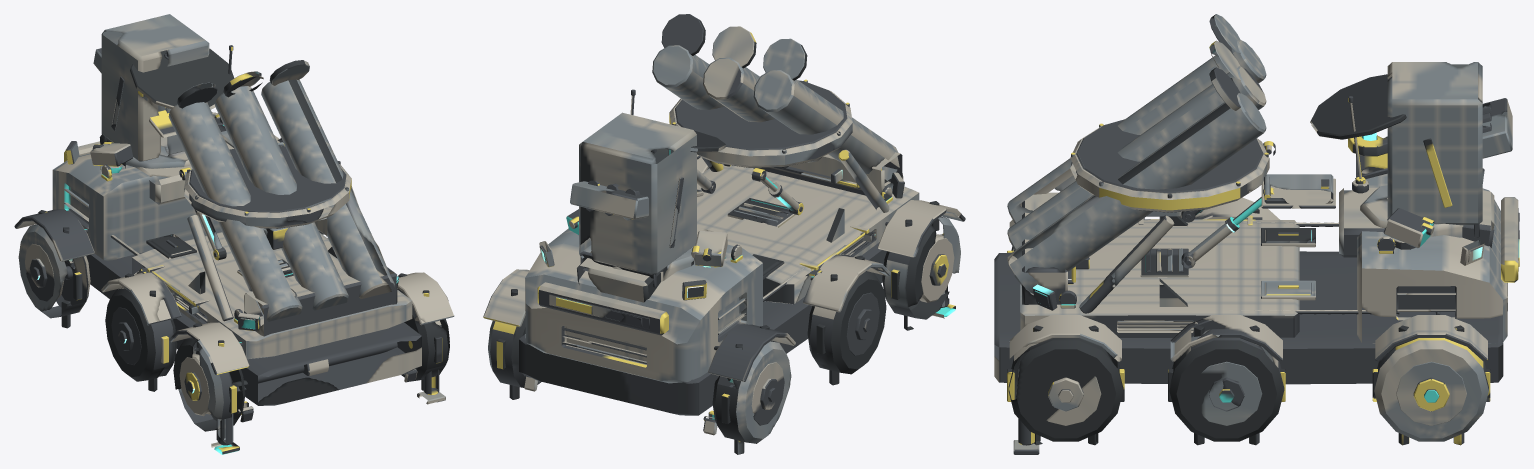
File: SkyguardSAM_Atlas.fbx
3 views of the same model, side by side, from view 1: azimuth 30°, elevation 25°; view 2: azimuth 150°, elevation 25°; view 3: azimuth 270°, elevation 25° (orthographic). The views are drawn at different scales.
Visible parts, largest first — view 1: SkyguardSAM_UnifiedMesh; view 2: SkyguardSAM_UnifiedMesh; view 3: SkyguardSAM_UnifiedMesh.
Part boxes in pixels (x1,y1,x2,y2): SkyguardSAM_UnifiedMesh: (14, 14, 454, 454); SkyguardSAM_UnifiedMesh: (483, 14, 965, 454); SkyguardSAM_UnifiedMesh: (994, 14, 1519, 454).
Size of the model in its own units: 233 by 267 by 367.
1 material, 1 textured.
